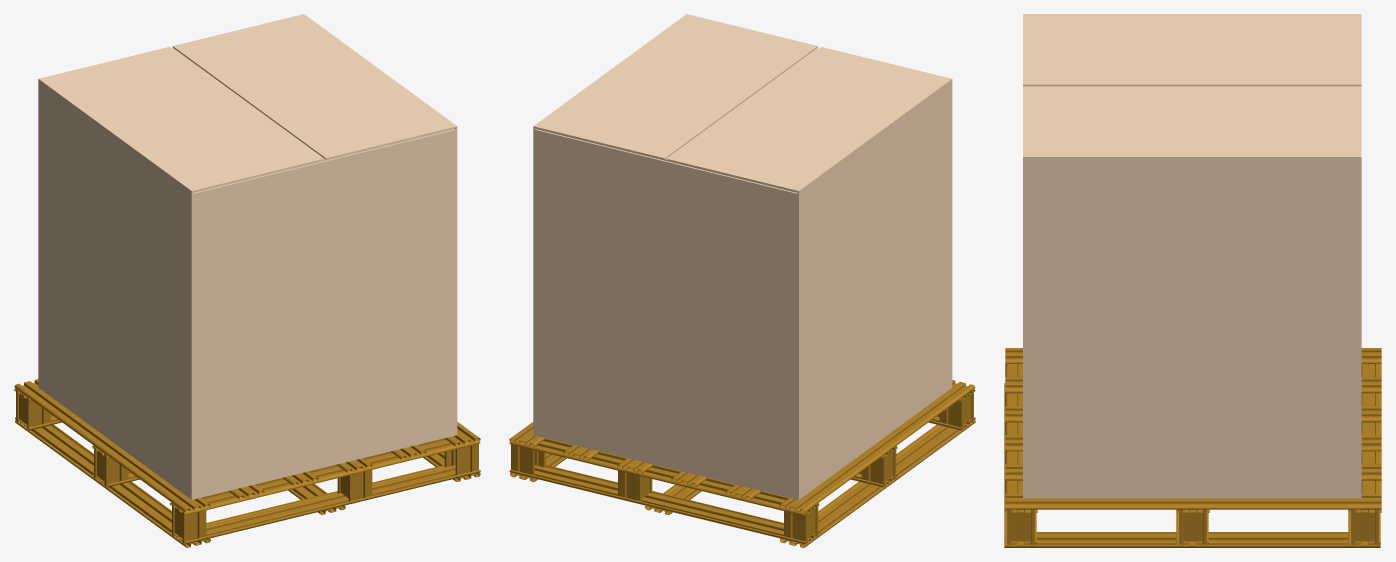
Rendered from 1000-1000-1000-1100-115-1.0川字托盘.glb.
The picture shows the model from 3 angles, left to right: view 1: azimuth 30°, elevation 25°; view 2: azimuth 150°, elevation 25°; view 3: azimuth 270°, elevation 25°; orthographic projection. The views are drawn at different scales.
Parts seen in each view (by area): view 1: 1000-1000-货物-2, 1000-1000-面板 - 2-11, 1000-1000-面板-1-1, 1000-1000-面板-1-14, 1000-1000-面板 - 2-1, 1000-1000-立柱-1-13, 1000-1000-立柱-1-14, 1000-1000-立柱-1-1, 1000-1000-立柱-1-17, 1000-1000-立柱-1-18; view 2: 1000-1000-货物-2, 1000-1000-面板 - 2-13, 1000-1000-面板-1-1, 1000-1000-面板-1-14, 1000-1000-面板 - 2-10, 1000-1000-立柱-1-18, 1000-1000-立柱-1-16, 1000-1000-立柱-1-17, 1000-1000-立柱-1-12, 1000-1000-立柱-1-13; view 3: 1000-1000-货物-2, 1000-1000-面板-1-12, 1000-1000-面板-1-6, 1000-1000-面板 - 2-10, 1000-1000-面板 - 2-1, 1000-1000-立柱-1-11, 1000-1000-立柱-1-12, 1000-1000-立柱-1-1, 1000-1000-面板-1-5, 1000-1000-面板-1-2, 1000-1000-面板-1-3, 1000-1000-面板-1-4 (+2 smaller).
Part boxes in pixels (x1=…): 1000-1000-货物-2: x1=38, y1=14, x2=457, y2=499; 1000-1000-面板 - 2-11: x1=170, y1=465, x2=480, y2=544; 1000-1000-面板-1-1: x1=14, y1=379, x2=210, y2=512; 1000-1000-面板-1-14: x1=15, y1=420, x2=210, y2=547; 1000-1000-面板 - 2-1: x1=170, y1=438, x2=480, y2=515; 1000-1000-立柱-1-13: x1=172, y1=503, x2=206, y2=543; 1000-1000-立柱-1-14: x1=337, y1=470, x2=372, y2=501; 1000-1000-立柱-1-1: x1=444, y1=444, x2=478, y2=475; 1000-1000-立柱-1-17: x1=94, y1=446, x2=128, y2=486; 1000-1000-立柱-1-18: x1=16, y1=389, x2=50, y2=429; 1000-1000-货物-2: x1=533, y1=14, x2=952, y2=499; 1000-1000-面板 - 2-13: x1=509, y1=465, x2=819, y2=544; 1000-1000-面板-1-1: x1=779, y1=380, x2=975, y2=512; 1000-1000-面板-1-14: x1=780, y1=420, x2=975, y2=547; 1000-1000-面板 - 2-10: x1=509, y1=438, x2=819, y2=515; 1000-1000-立柱-1-18: x1=784, y1=504, x2=818, y2=543; 1000-1000-立柱-1-16: x1=618, y1=470, x2=652, y2=501; 1000-1000-立柱-1-17: x1=861, y1=447, x2=896, y2=486; 1000-1000-立柱-1-12: x1=511, y1=444, x2=545, y2=475; 1000-1000-立柱-1-13: x1=939, y1=390, x2=973, y2=429; 1000-1000-货物-2: x1=1023, y1=14, x2=1361, y2=498; 1000-1000-面板-1-12: x1=1004, y1=532, x2=1380, y2=547; 1000-1000-面板-1-6: x1=1005, y1=493, x2=1381, y2=509; 1000-1000-面板 - 2-10: x1=1349, y1=364, x2=1381, y2=512; 1000-1000-面板 - 2-1: x1=1005, y1=364, x2=1037, y2=512; 1000-1000-立柱-1-11: x1=1179, y1=510, x2=1206, y2=544; 1000-1000-立柱-1-12: x1=1351, y1=510, x2=1378, y2=544; 1000-1000-立柱-1-1: x1=1007, y1=510, x2=1034, y2=544; 1000-1000-面板-1-5: x1=1005, y1=464, x2=1381, y2=480; 1000-1000-面板-1-2: x1=1005, y1=377, x2=1381, y2=393; 1000-1000-面板-1-3: x1=1005, y1=406, x2=1381, y2=422; 1000-1000-面板-1-4: x1=1005, y1=435, x2=1381, y2=451.
Size of the model in its own units: 1 by 1.13 by 1.
